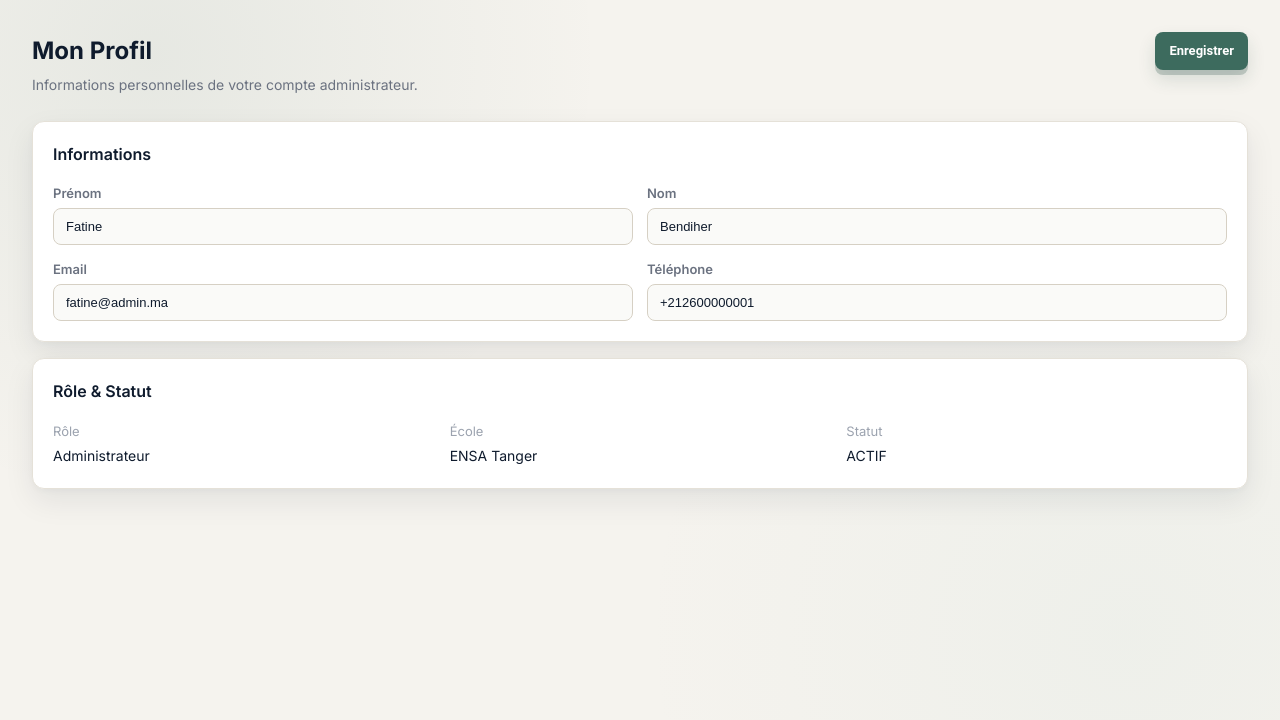
Test: AdminProfile.vue — Tests d'Intégration › 20 — après erreur API, affiche .msg.msg--error
Click the button with class "btn--primary" at (1202, 51), box x1=1155 y1=32 x2=1248 y2=70
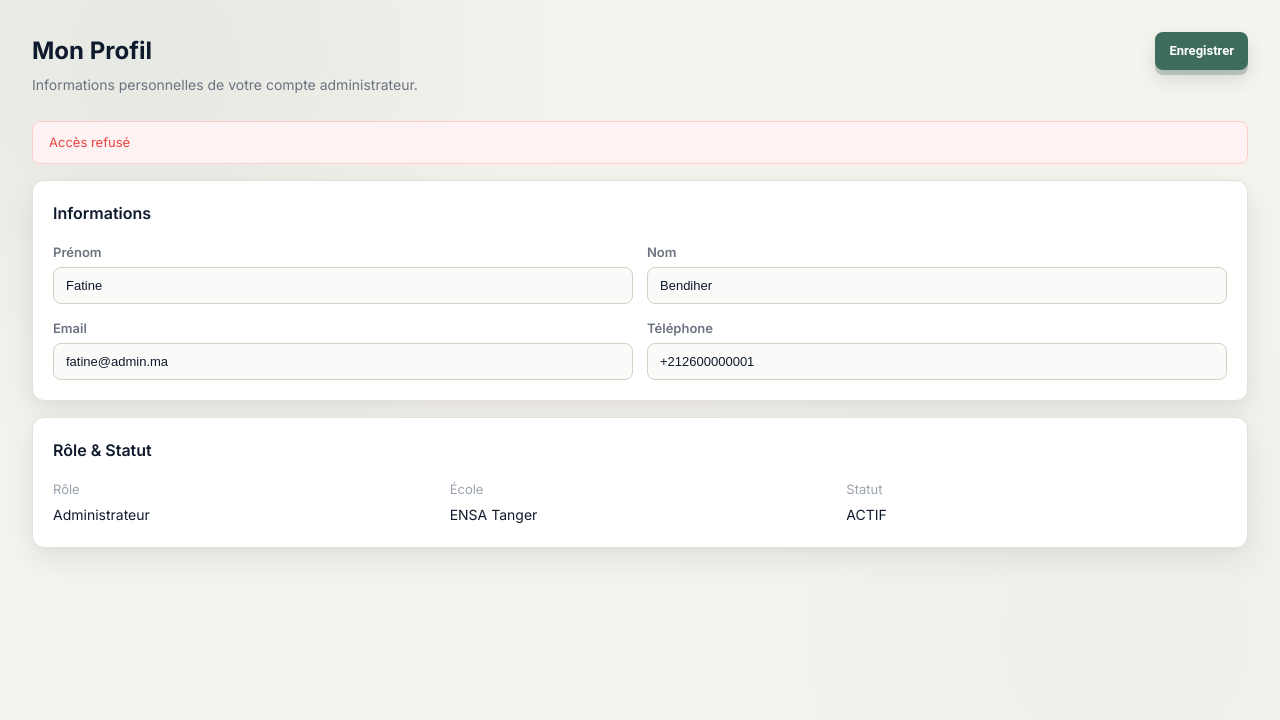
expect the text "Accès refusé" is shown: met, box x1=32 y1=121 x2=1248 y2=164
expect the text with class "msg--error" reads "Accès refusé": met, box x1=49 y1=134 x2=130 y2=150
